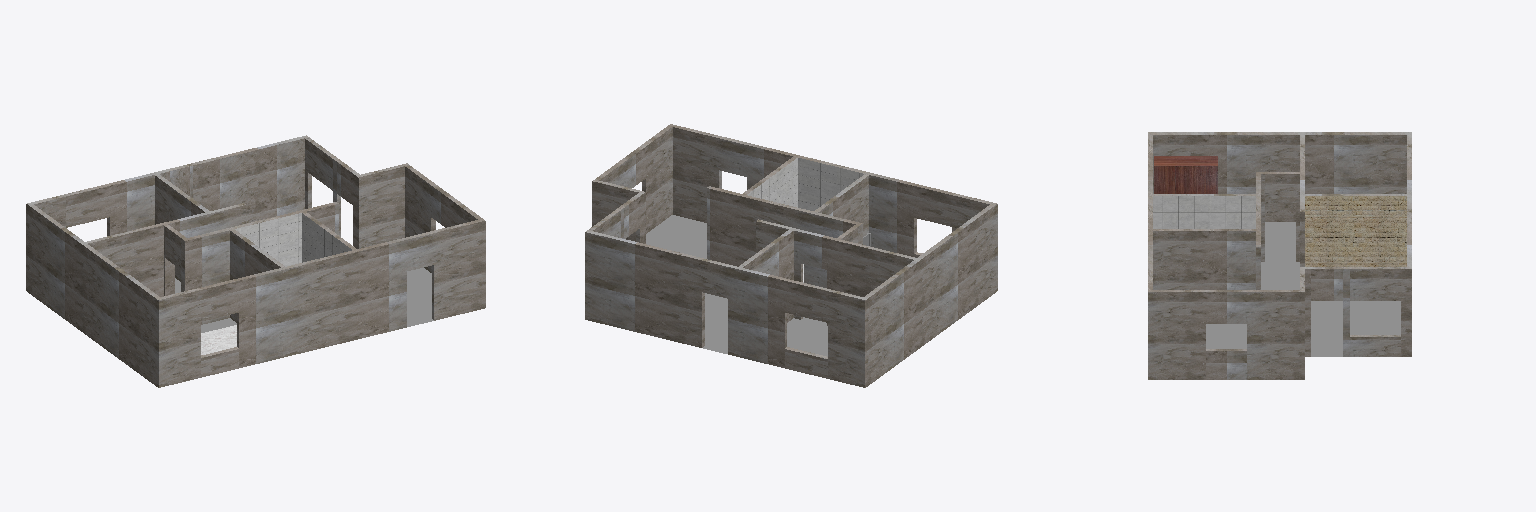
3 views of the same model, side by side, from view 1: azimuth 30°, elevation 25°; view 2: azimuth 150°, elevation 25°; view 3: azimuth 270°, elevation 25° (orthographic).
Parts seen in each view (by area): view 1: Cube.001, Cube.002; view 2: Cube.001; view 3: Cube.001, Cube.003.
Part boxes in pixels (left/top/right/bottom): Cube.001: left=26, top=135, right=485, bottom=387; Cube.002: left=201, top=325, right=236, bottom=354; Cube.001: left=585, top=124, right=997, bottom=387; Cube.001: left=1148, top=132, right=1411, bottom=379; Cube.003: left=1154, top=156, right=1217, bottom=193.
Size of the model in its own units: 20 by 5.13 by 14.
9 materials, 5 textured.